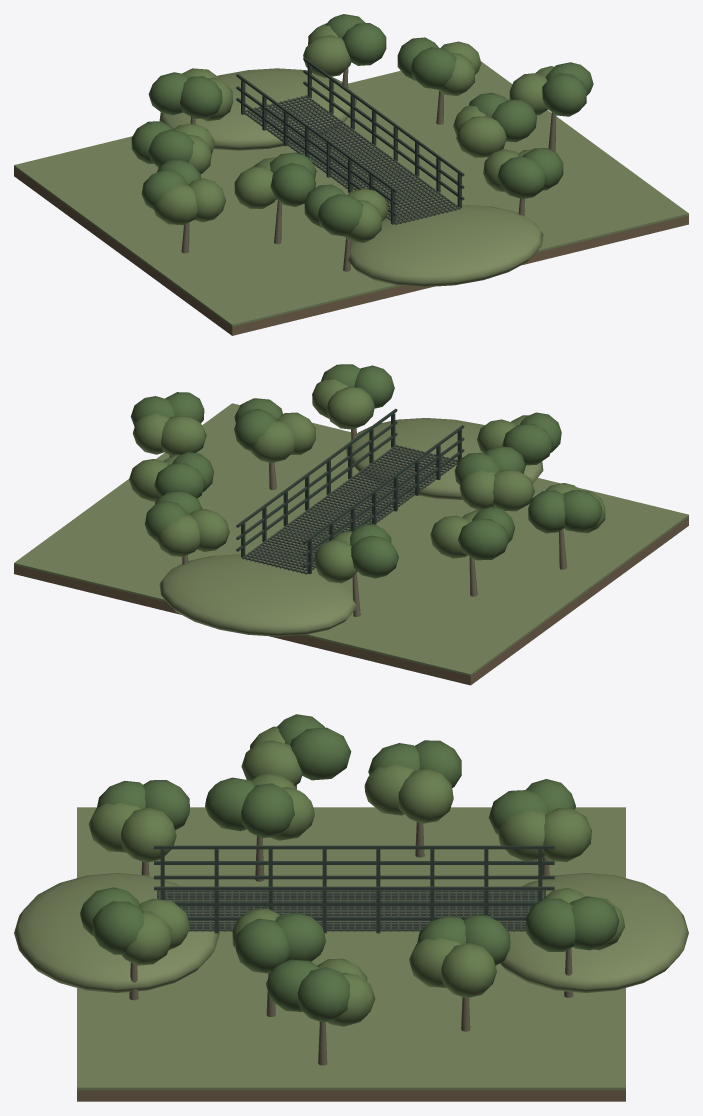
File: gms-26.glb
3 views of the same model, one above another, from view 1: azimuth 30°, elevation 25°; view 2: azimuth 150°, elevation 25°; view 3: azimuth 270°, elevation 25° (orthographic). The views are drawn at different scales.
Visible parts, largest first — view 1: GMS-26 - estudio del paisaje; view 2: GMS-26 - estudio del paisaje; view 3: GMS-26 - estudio del paisaje.
Boxes of the visible parts, x1,y1,x2,y2 form: GMS-26 - estudio del paisaje: (14, 14, 688, 335); GMS-26 - estudio del paisaje: (14, 364, 688, 685); GMS-26 - estudio del paisaje: (14, 714, 688, 1101).
Size of the model in its own units: 11.61 by 2.27 by 11.8.
